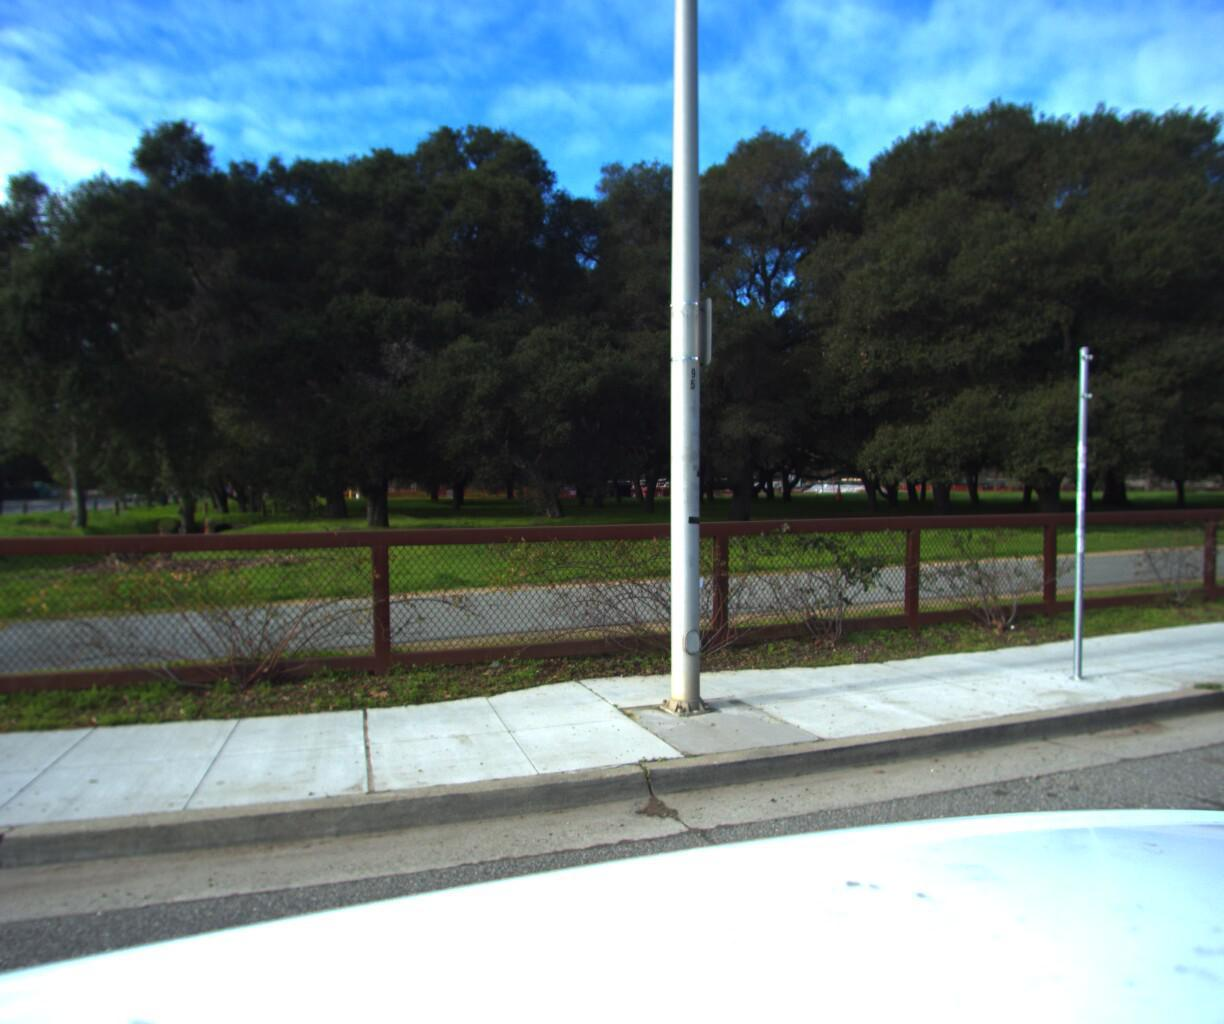car: (1218, 458, 1224, 790), (0, 482, 9, 504)
